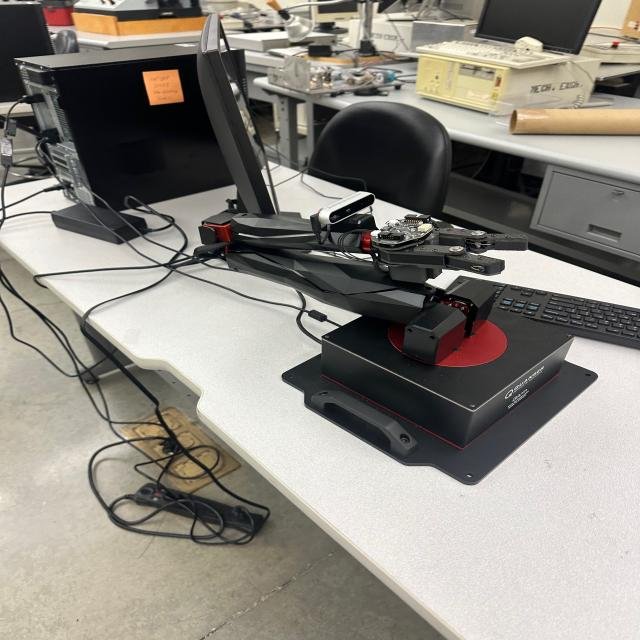monitor: (175, 6, 316, 219), (478, 0, 606, 57)
robotic-arm: (176, 185, 538, 378)
